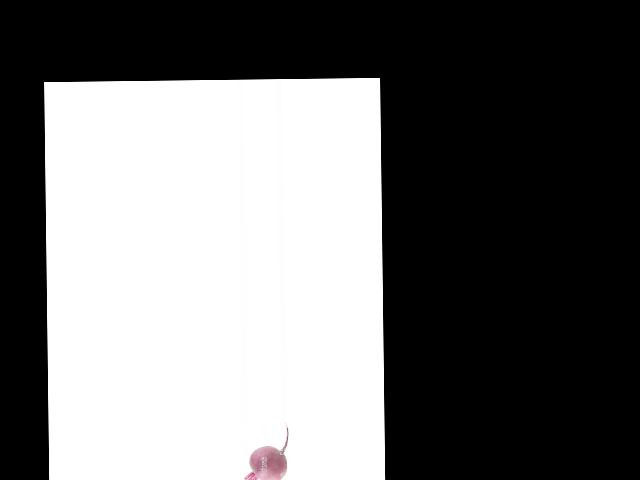beet: (239, 422, 289, 480)
